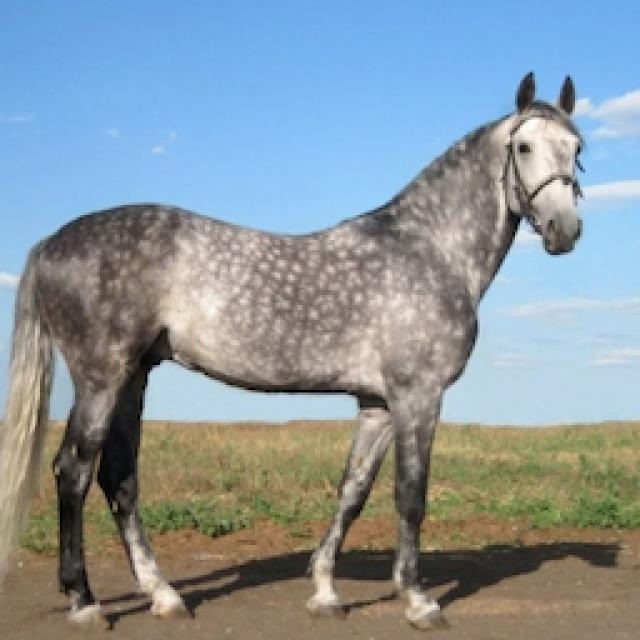Horse: (0, 65, 592, 635)
